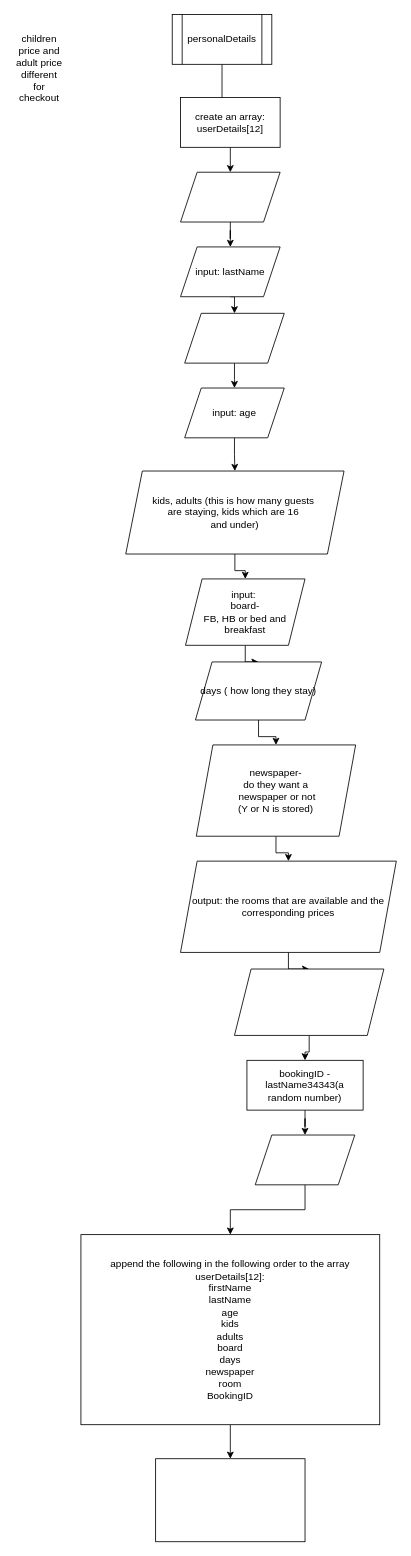
The diagram is 411 pixels wide and 1556 high, and some of its shapes have lost their labels. The centre of each missing label's shape, as x and y in pixels:
"append userDetails to the 2D array created at the start of main" belongs at pixel 230 1500.
"input: D.O.B- (dd/mm/yyyy)" belongs at pixel 234 337.
"input: firstName" belongs at pixel 230 196.
"output:BookingID" belongs at pixel 304 1159.
"room ( what room they want)" belongs at pixel 309 1001.
